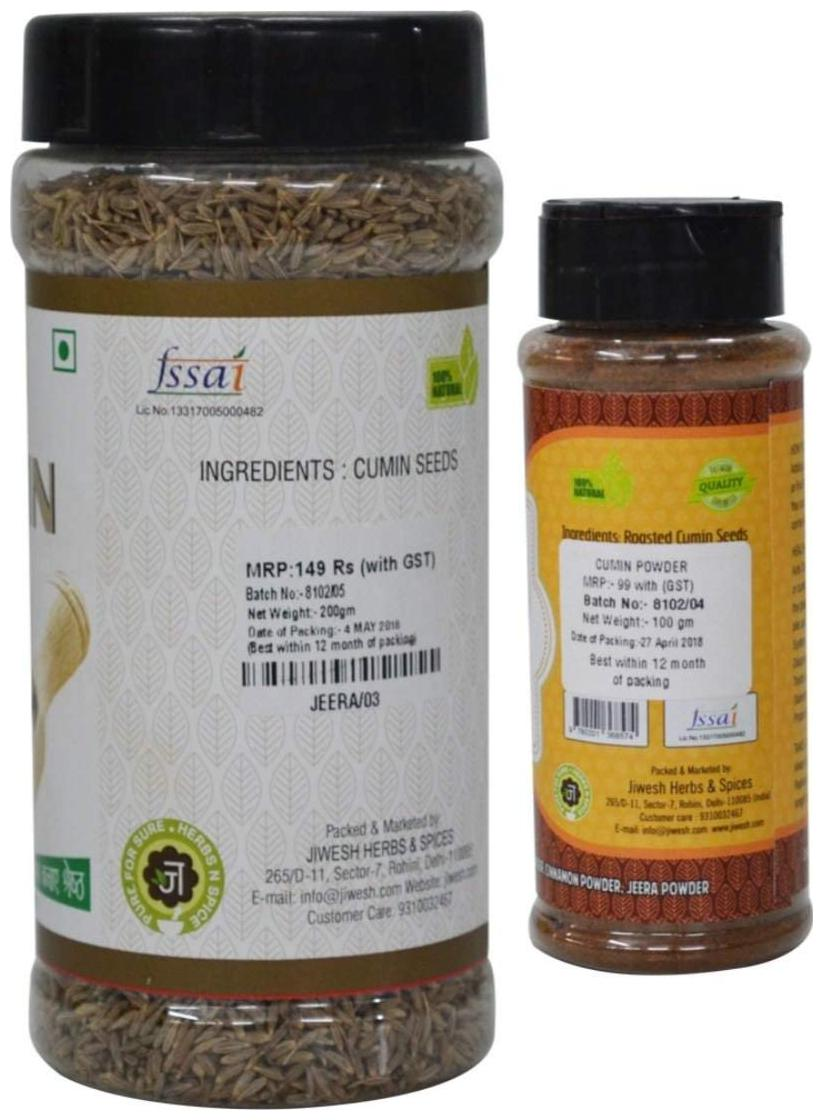fssai: (144, 343, 250, 397)
